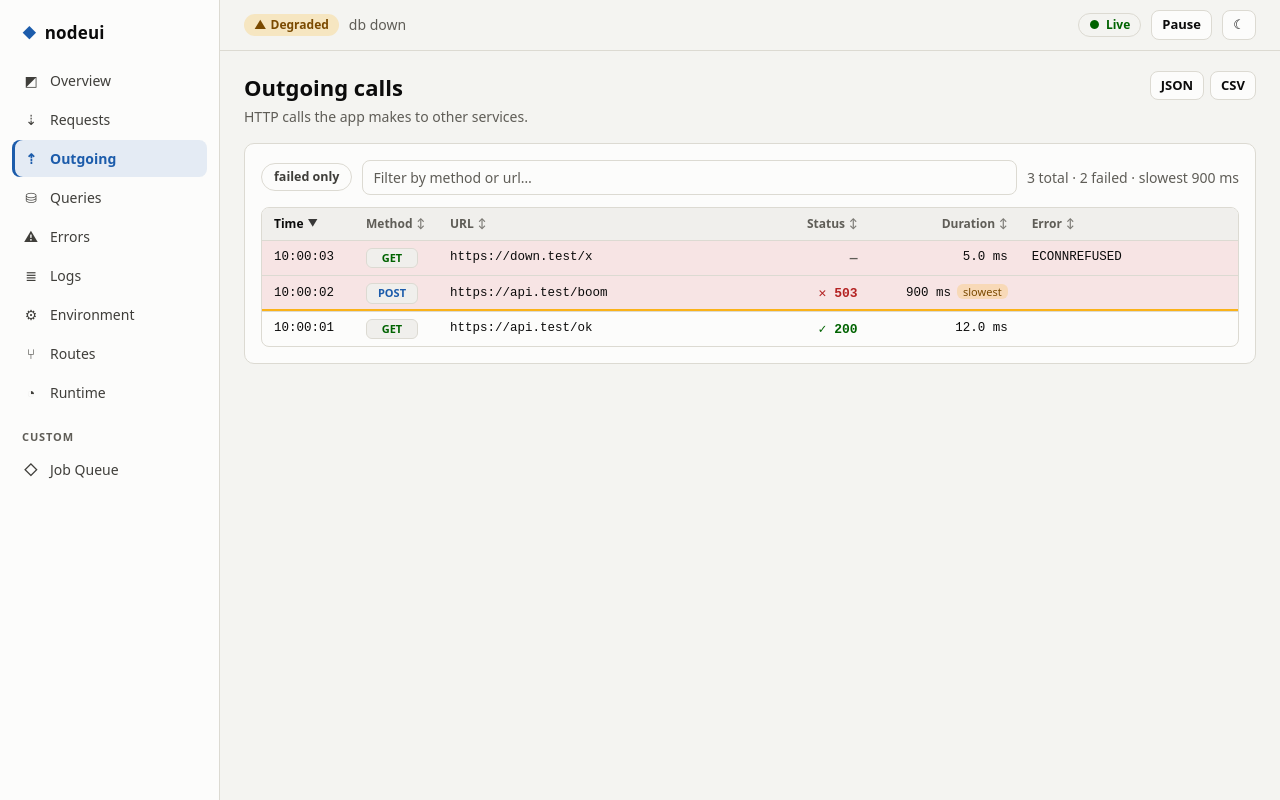
Test: Outgoing view › renders summary, failed rows, slowest highlight and filters
The width and height of the screenshot is (1280, 800).
Expected: the text "https://api.test/ok" is shown, [438,312,786,346]
Expected: the text "3 total · 2 failed · slowest 900 ms" is shown, [1027,166,1239,188]
Click the button "failed only".
click(307, 177)  # box [261,163,352,191]
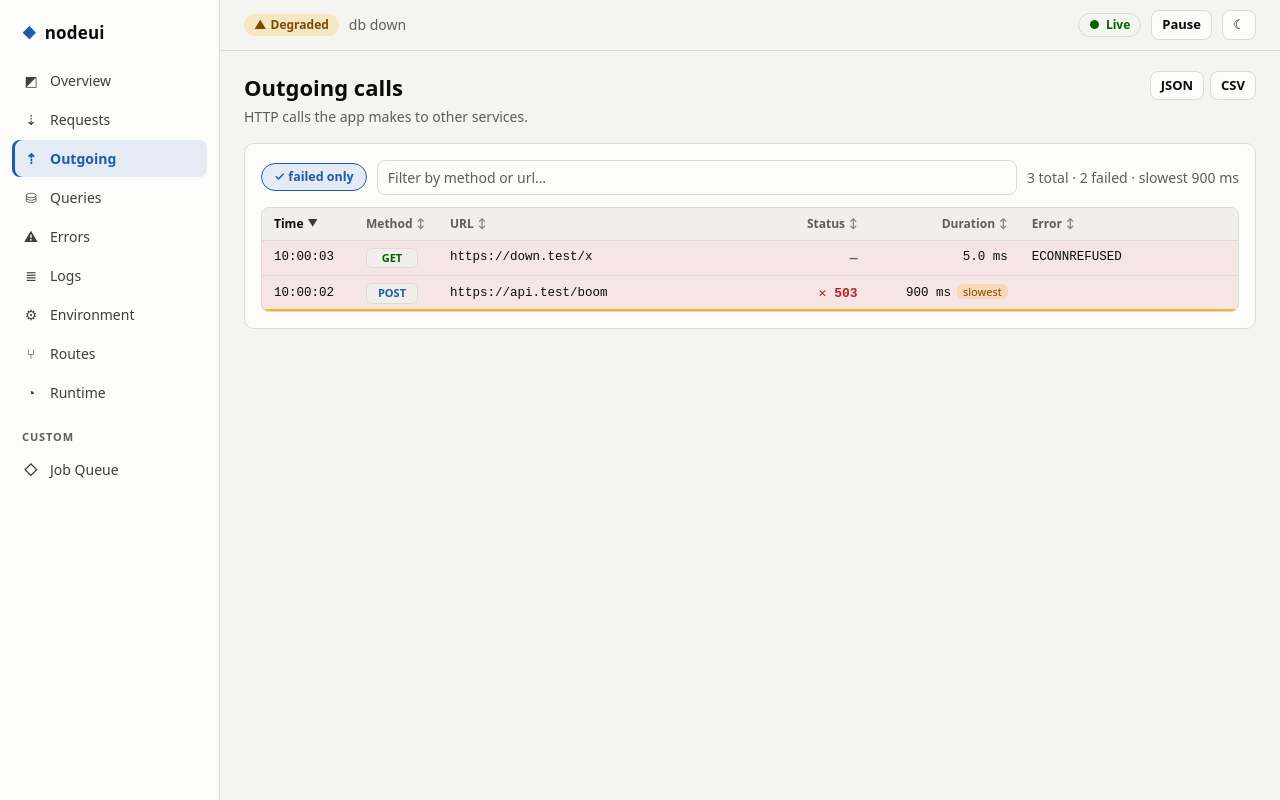
Result: the text "https://api.test/ok" is gone
Type "down.test" into the search field with placeholder "Filter by method or url…".
click(697, 177); type("down.test")  # box [377,160,1017,194]
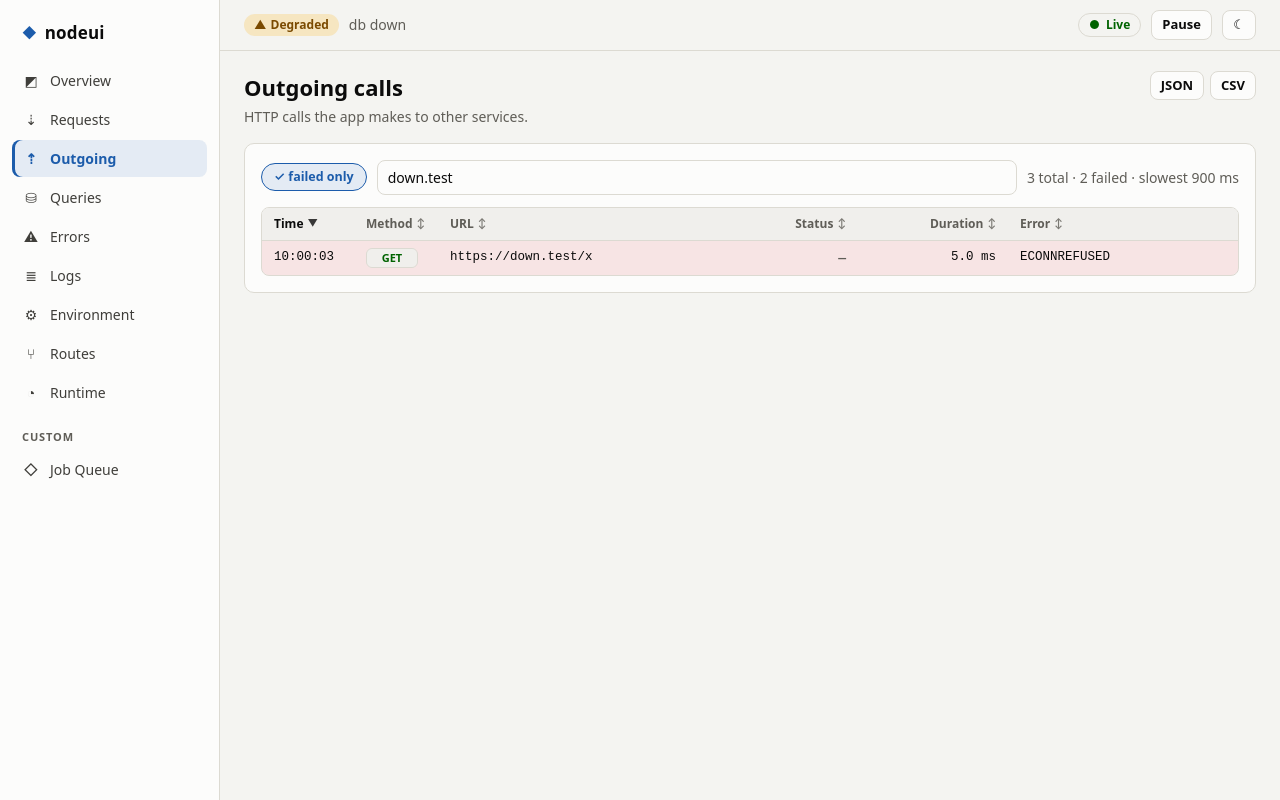
Expected: the text "https://down.test/x" is shown, [438,240,774,275]
Result: the text "https://api.test/boom" is gone
